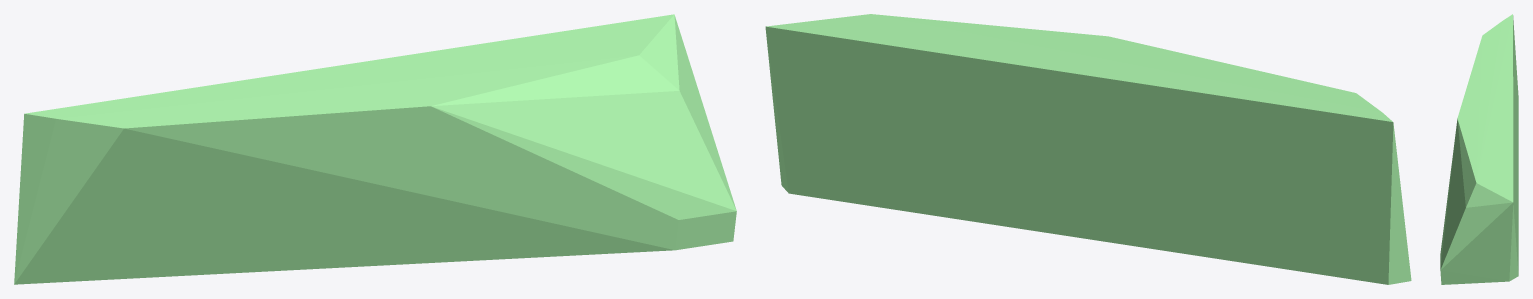
The model's file is UMIRobot_UMIRobot_link_5_convex_coll_68.dae.
3 views of the same model, side by side, from view 1: azimuth 30°, elevation 25°; view 2: azimuth 150°, elevation 25°; view 3: azimuth 270°, elevation 25° (orthographic). The views are drawn at different scales.
Parts seen in each view (by area): view 1: node; view 2: node; view 3: node.
Boxes of the visible parts, x1,y1,x2,y2 form: node: (14,14,736,284); node: (765,14,1411,284); node: (1440,14,1518,284).
Bounding box in the file's own units: 0.0228 × 0.00758 × 0.00465.
